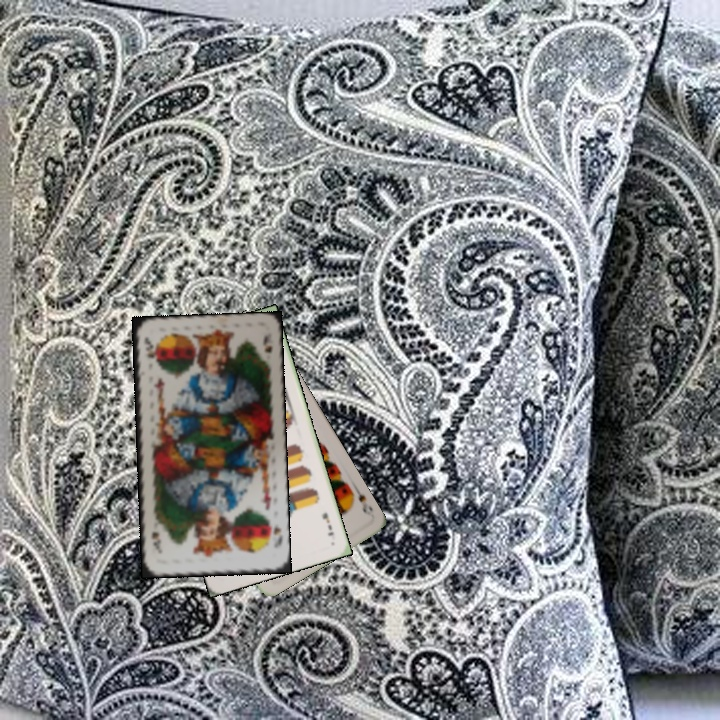E7: (318, 509, 336, 539)
S9: (346, 482, 375, 519)
SK: (140, 332, 157, 360), (269, 522, 285, 551)
